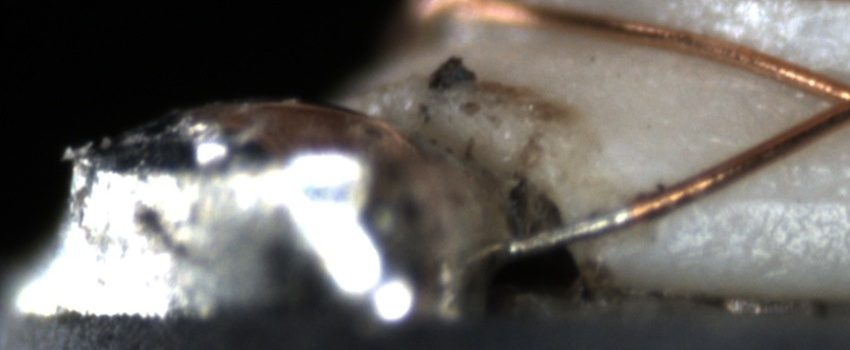CL: (805, 65, 850, 132)
DL: (688, 169, 849, 233)
TS: (506, 207, 637, 256)
